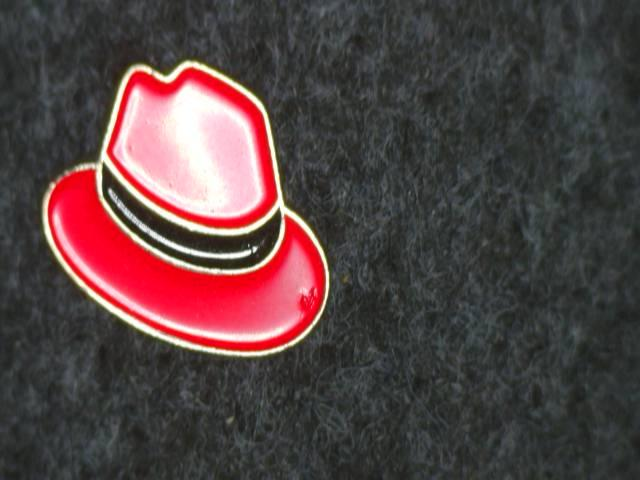Red-Hat: (23, 50, 387, 375)
